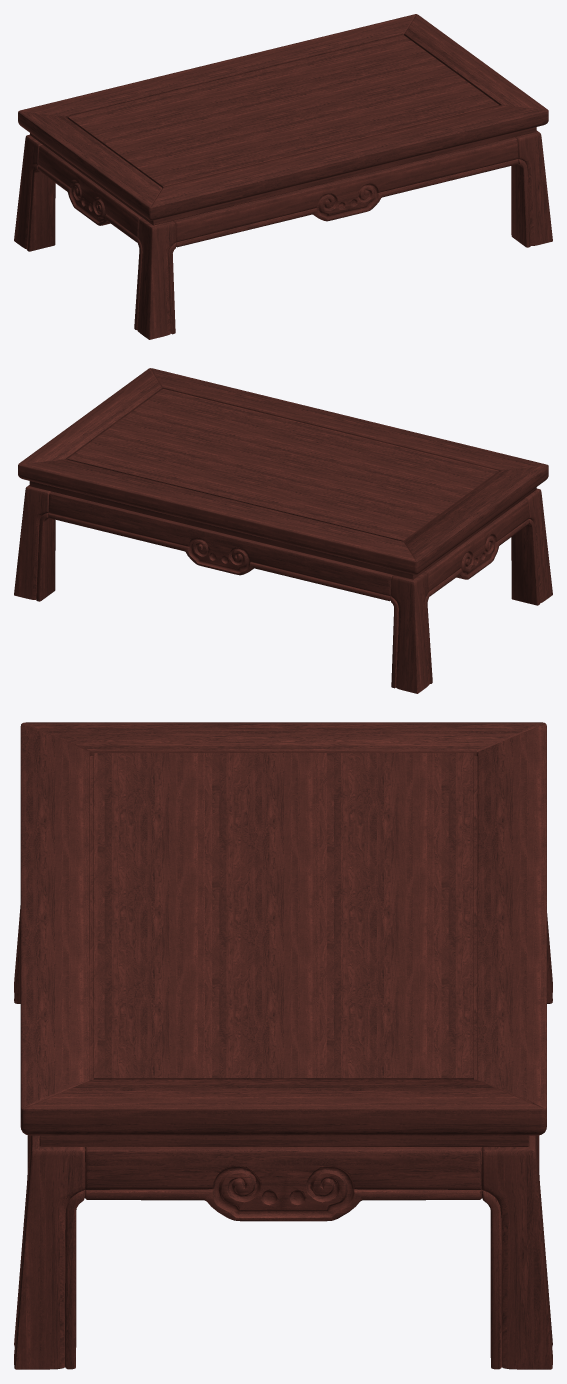
File: QH-矮桌子.fbx
3 renders of one model, top to bottom at view 1: azimuth 30°, elevation 25°; view 2: azimuth 150°, elevation 25°; view 3: azimuth 270°, elevation 25°, orthographic. The views are drawn at different scales.
Parts seen in each view (by area): view 1: QH-矮桌子; view 2: QH-矮桌子; view 3: QH-矮桌子.
Part boxes in pixels (x1,y1,x2,y2): QH-矮桌子: (14,14,552,339); QH-矮桌子: (14,368,552,693); QH-矮桌子: (14,722,552,1369).
Size of the model in its own units: 1.34 by 0.7772 by 0.4126.
